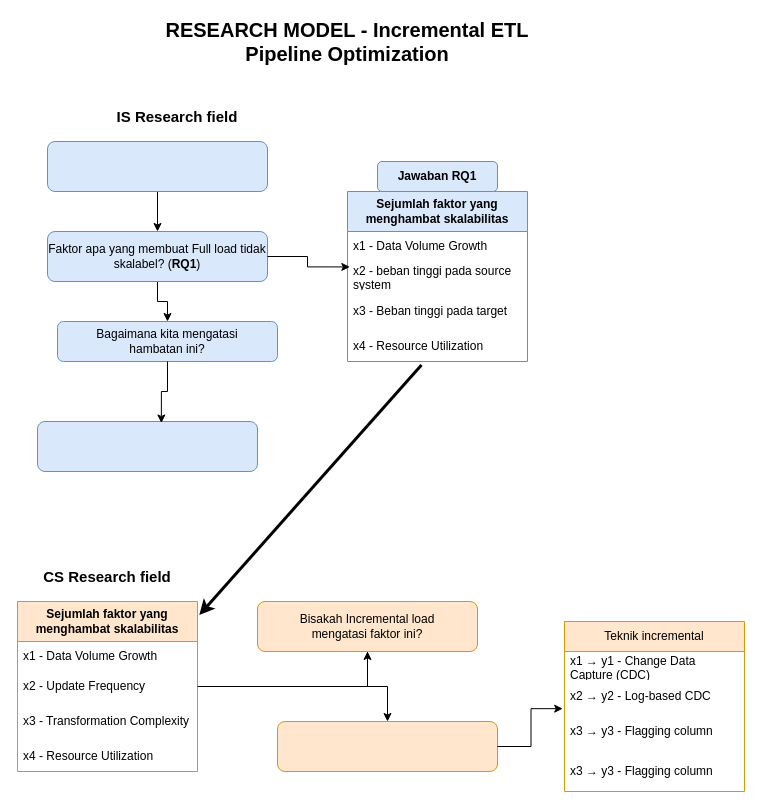
This 762x809 diagram has some shape labels left out. The centre of each missing label's shape, as x and y in pixels:
Bisakah Incremental load menjadi alternatif?: the point at 147,446
kenapa Full load menghambat skalabilitas operasional?: the point at 157,166
Metode apa yang bisa dipakai?( RQ2 ): the point at 387,746
